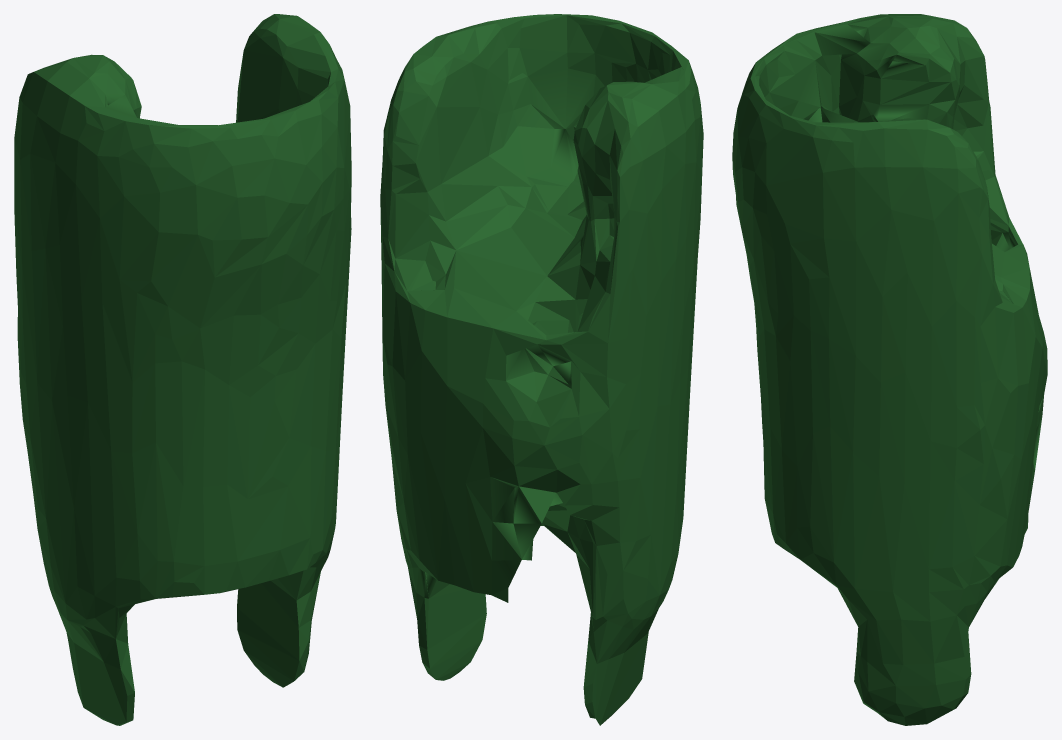
Rendered from sim_sea_2-5_r_shank_prt.obj.
3 renders of one model, left to right at view 1: azimuth 30°, elevation 25°; view 2: azimuth 150°, elevation 25°; view 3: azimuth 270°, elevation 25°, orthographic. The views are drawn at different scales.
Parts seen in each view (by area): view 1: sim_sea_2-5_r_shank_prt; view 2: sim_sea_2-5_r_shank_prt; view 3: sim_sea_2-5_r_shank_prt.
Boxes of the visible parts, bbox=[...] form: sim_sea_2-5_r_shank_prt: bbox=[14, 14, 351, 725]; sim_sea_2-5_r_shank_prt: bbox=[380, 14, 703, 725]; sim_sea_2-5_r_shank_prt: bbox=[732, 14, 1047, 725].
Size of the model in its own units: 108 by 243 by 112.
